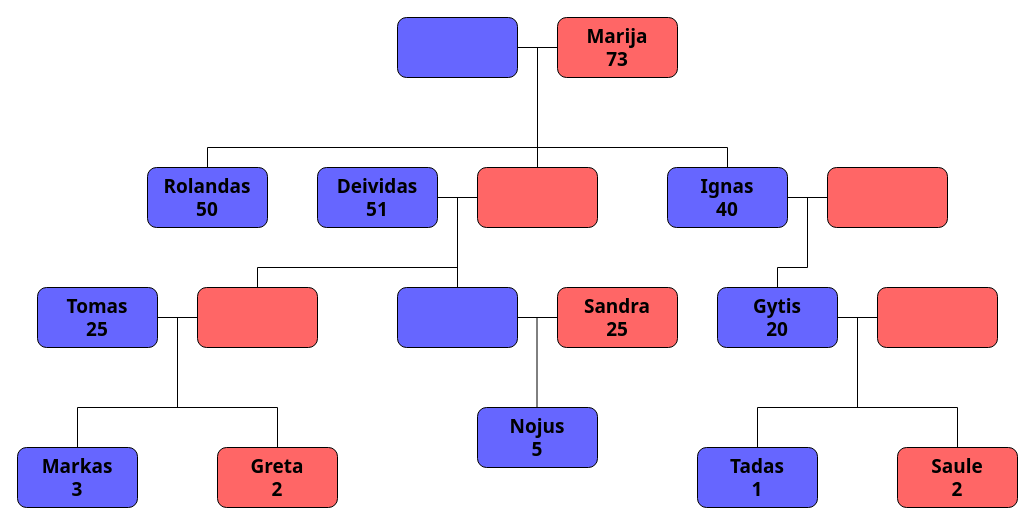
The diagram is 1035 pixels wide and 525 high, and some of its shapes have lost their labels. Here are the shapes that lost their labels. From the top down, the centre of each, then its label:
At (x=457, y=47): "Petras 75".
At (x=537, y=197): "Aukse 49".
At (x=887, y=197): "Ieva 40".
At (x=257, y=317): "Guste 26".
At (x=457, y=317): "Andrius 28".
At (x=937, y=317): "Evelina 25".
